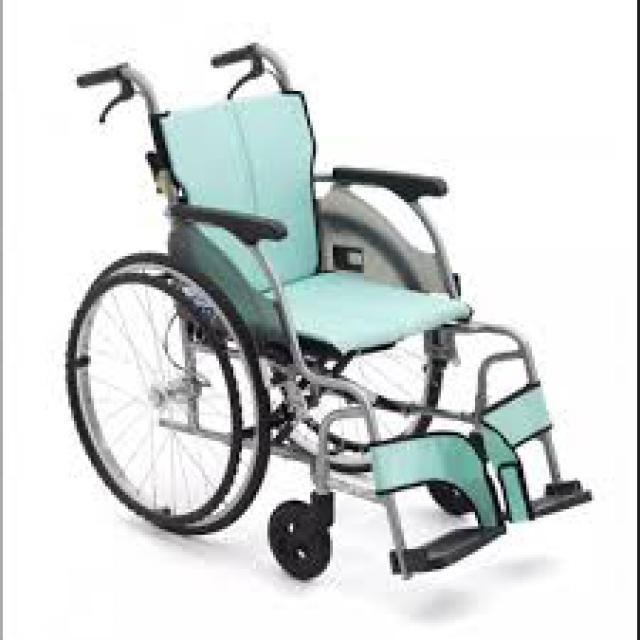wheelchairs: (66, 42, 584, 581)
